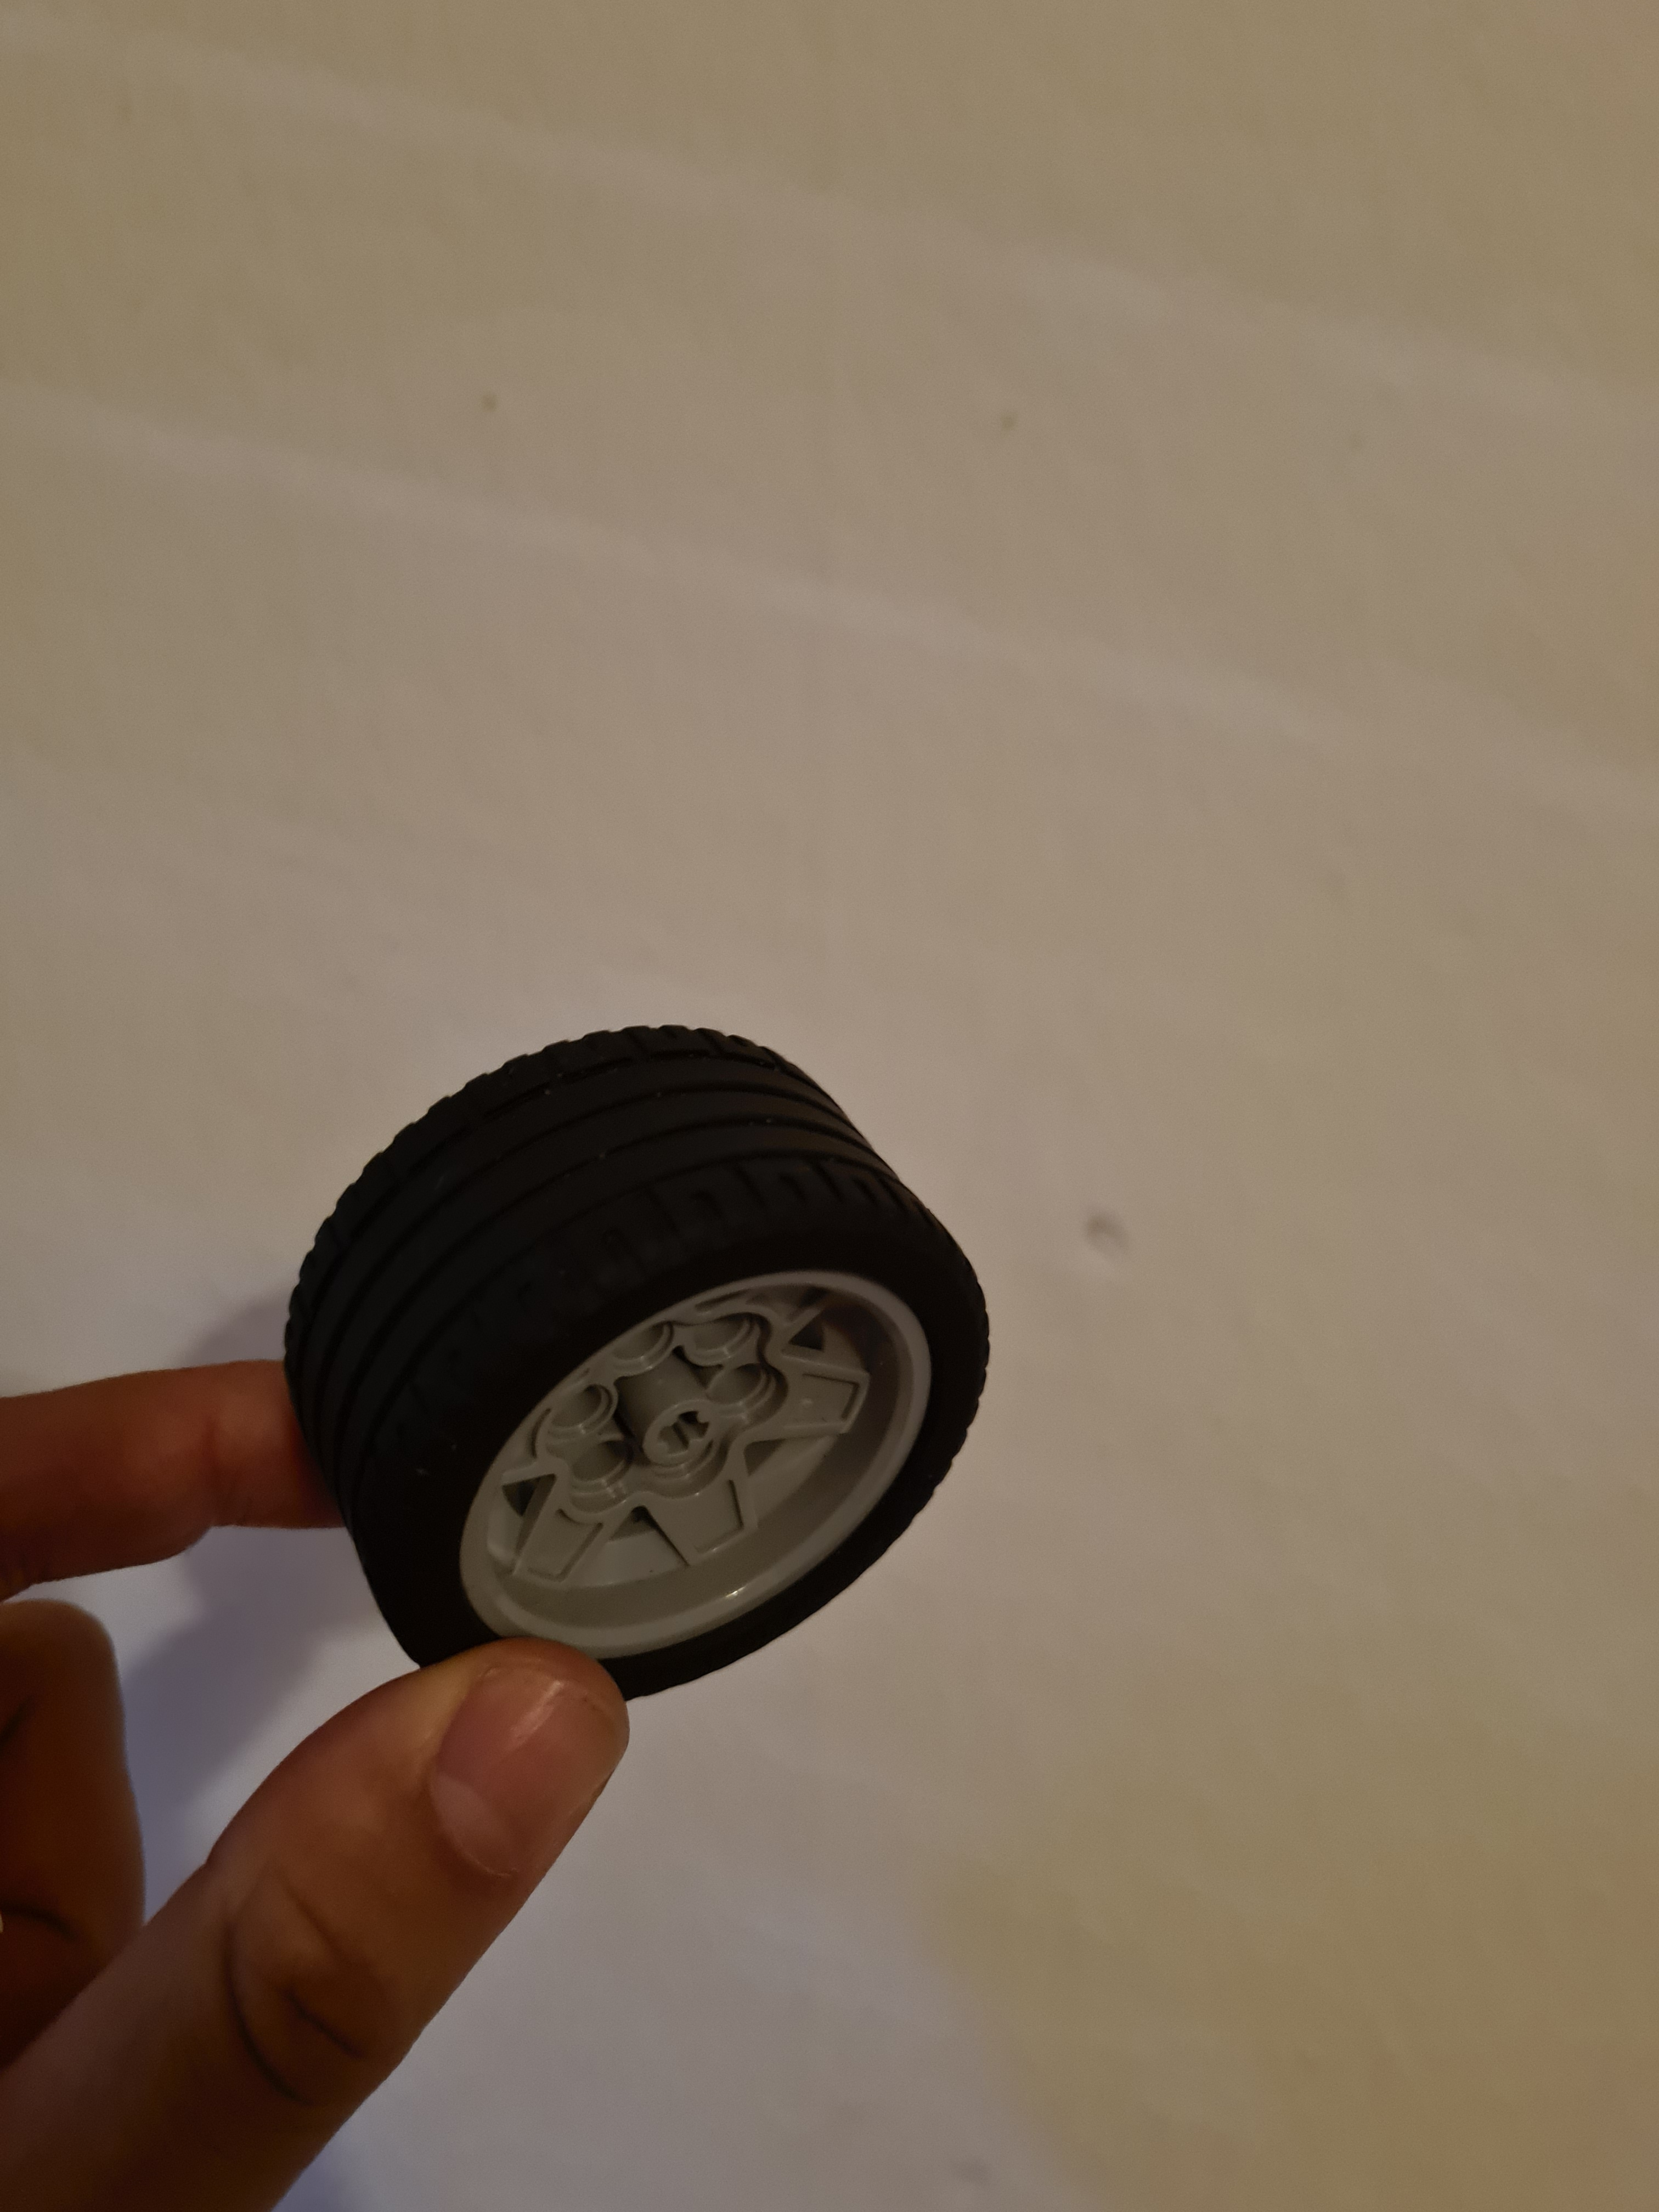Rad: (258, 977, 1030, 1730)
